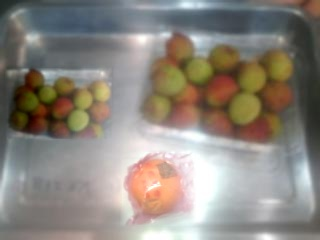juzi: (118, 148, 198, 229)
lizhi: (133, 24, 301, 143), (3, 63, 116, 143)
